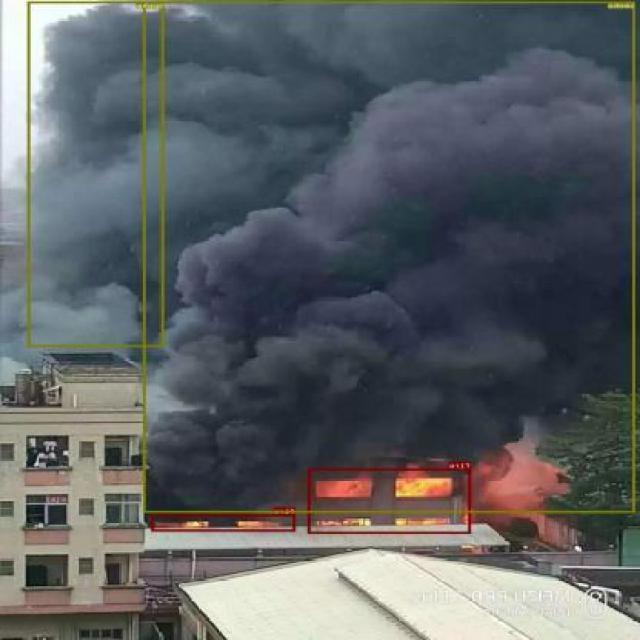Fire: (292, 464, 466, 534)
Smoke: (147, 0, 640, 520), (2, 2, 192, 355)
